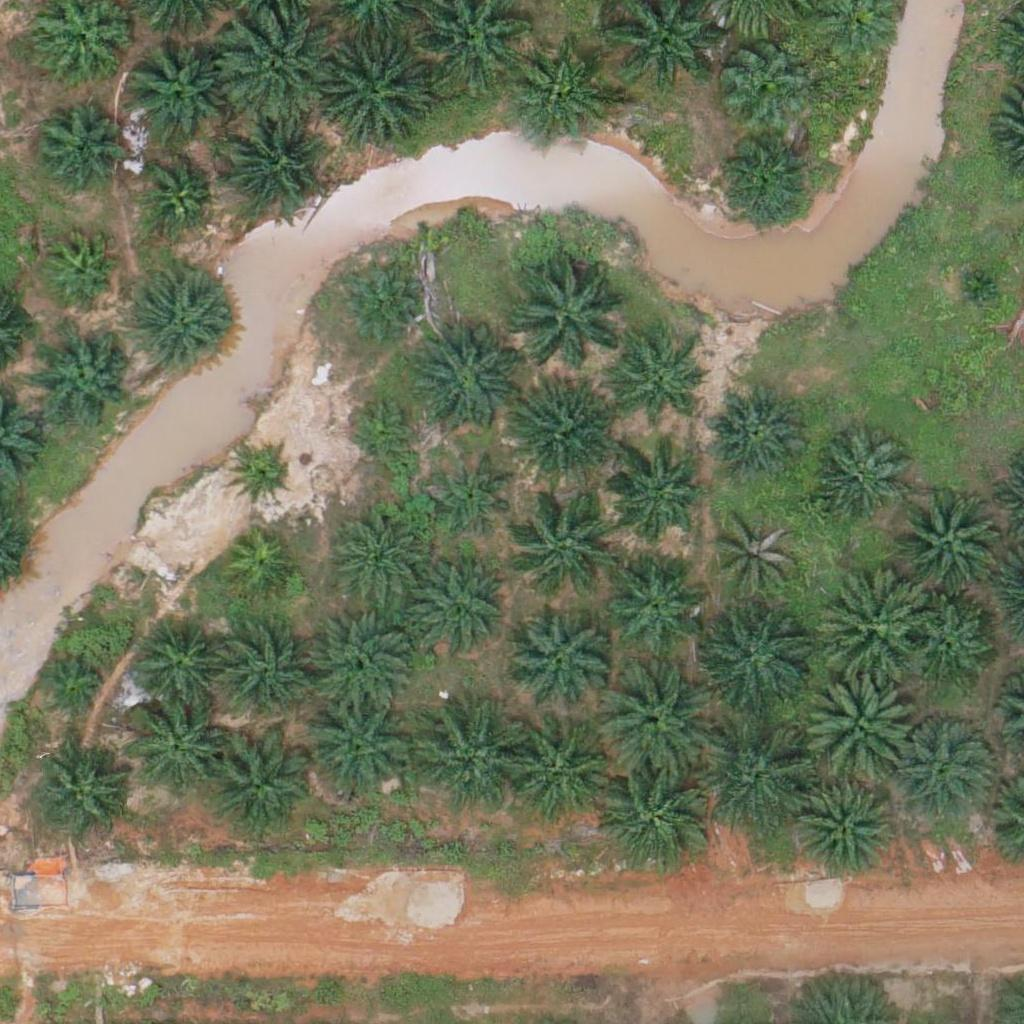Kelapa_Sawit: (315, 35, 428, 149), (599, 763, 712, 876), (512, 253, 625, 366), (406, 326, 519, 439), (304, 604, 417, 717), (301, 692, 414, 805), (203, 731, 316, 844), (511, 484, 623, 598), (409, 701, 521, 815), (892, 486, 1004, 599), (815, 569, 927, 682), (802, 667, 914, 780), (704, 722, 816, 835), (700, 601, 812, 714), (598, 663, 710, 776), (499, 720, 611, 833), (502, 381, 614, 494), (223, 10, 335, 123), (894, 716, 994, 817), (808, 427, 908, 528), (604, 447, 704, 548), (506, 609, 606, 710), (123, 40, 223, 141), (406, 560, 506, 661), (214, 626, 314, 727), (129, 617, 229, 718), (31, 743, 131, 844), (793, 779, 893, 879), (714, 129, 814, 229), (705, 382, 805, 482), (604, 551, 704, 651), (511, 50, 611, 150), (221, 115, 321, 215), (131, 275, 231, 375), (329, 508, 429, 608), (124, 697, 224, 797), (37, 328, 137, 428), (904, 600, 992, 688), (718, 36, 806, 124), (429, 454, 517, 542), (334, 262, 422, 350), (31, 100, 119, 188), (714, 513, 801, 601), (616, 343, 703, 431), (43, 231, 118, 307), (138, 157, 213, 232), (346, 393, 421, 468), (222, 531, 297, 606), (37, 655, 112, 730), (231, 444, 294, 507), (951, 259, 1001, 310)
